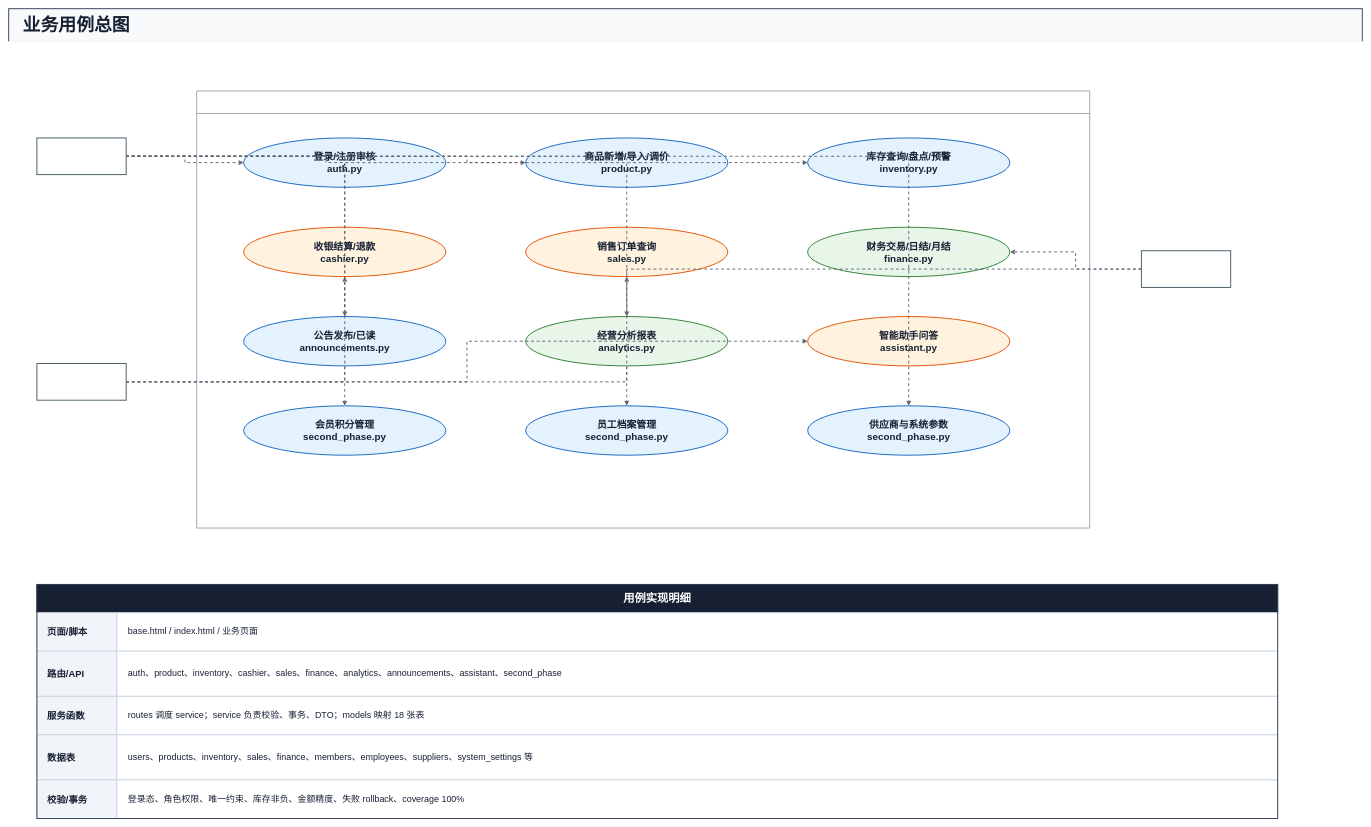
Some shapes in this 1371 by 827 pixel diagram are drawn without their labels. Here are the shapes that lost their labels. From the top down, the box of each, then its label:
(8, 41, 1363, 61): UML 用例总图｜角色、用例、实现入口
(36, 137, 126, 175): 管理员
(1141, 250, 1231, 288): 店长/财务
(196, 90, 1090, 528): 系统边界：超市管理系统
(36, 363, 126, 400): 收银员
